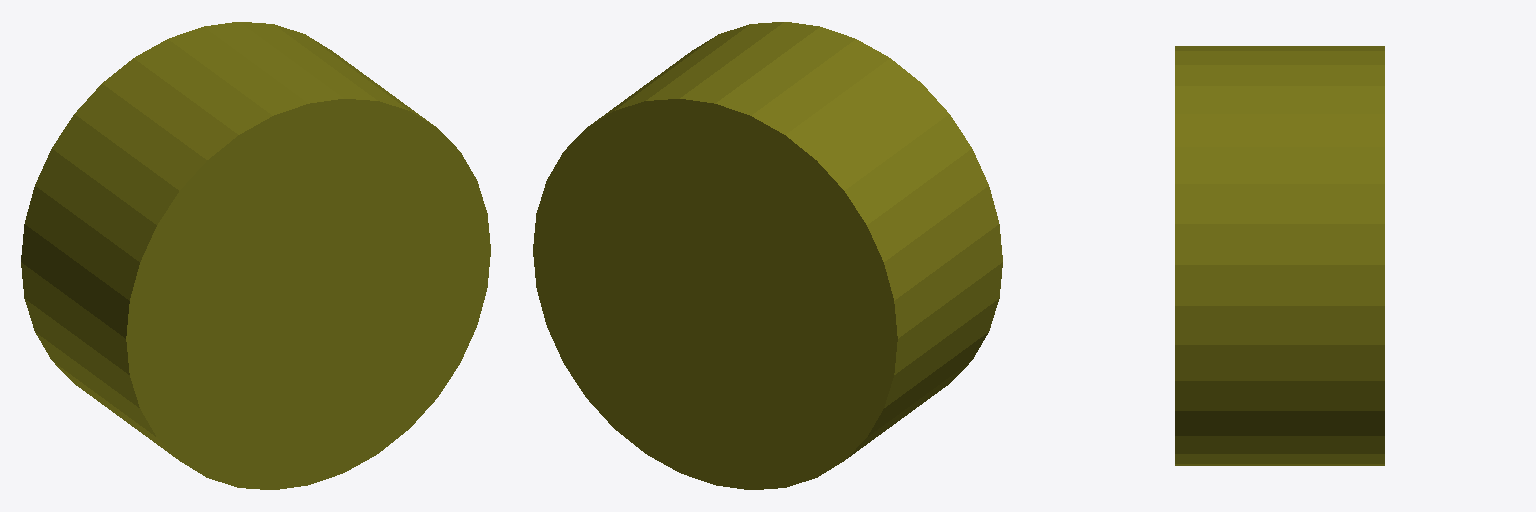
File: testcircle.obj
The picture shows the model from 3 angles: view 1: azimuth 30°, elevation 25°; view 2: azimuth 150°, elevation 25°; view 3: azimuth 270°, elevation 25°; orthographic projection.
Visible parts, largest first — view 1: testcircle:Mesh; view 2: testcircle:Mesh; view 3: testcircle:Mesh.
Part boxes in pixels (x1,y1,x2,y2): testcircle:Mesh: (21,22,490,489); testcircle:Mesh: (533,22,1002,489); testcircle:Mesh: (1175,46,1384,465).
Size of the model in its own units: 2 by 2 by 1.